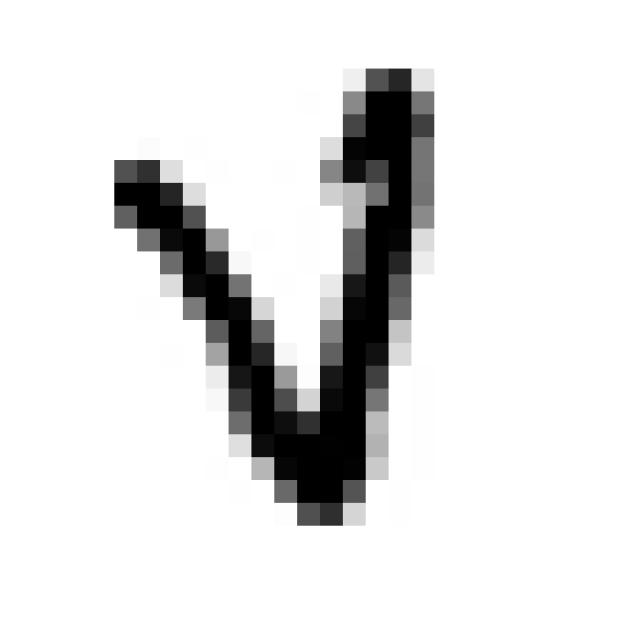7 -seven-: (94, 55, 461, 545)
